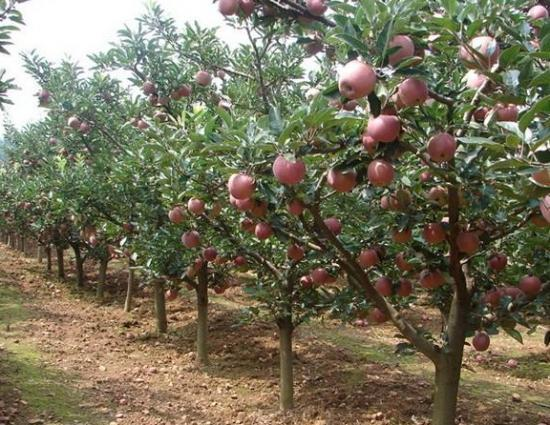apple: (337, 59, 376, 99), (463, 37, 499, 69), (368, 115, 401, 144), (273, 155, 306, 184), (398, 76, 427, 108), (383, 36, 415, 64), (366, 159, 394, 185), (328, 166, 356, 192), (228, 173, 256, 199), (427, 134, 455, 160), (472, 329, 489, 351), (171, 82, 191, 99), (186, 197, 204, 215), (253, 221, 270, 239), (194, 70, 212, 86)
